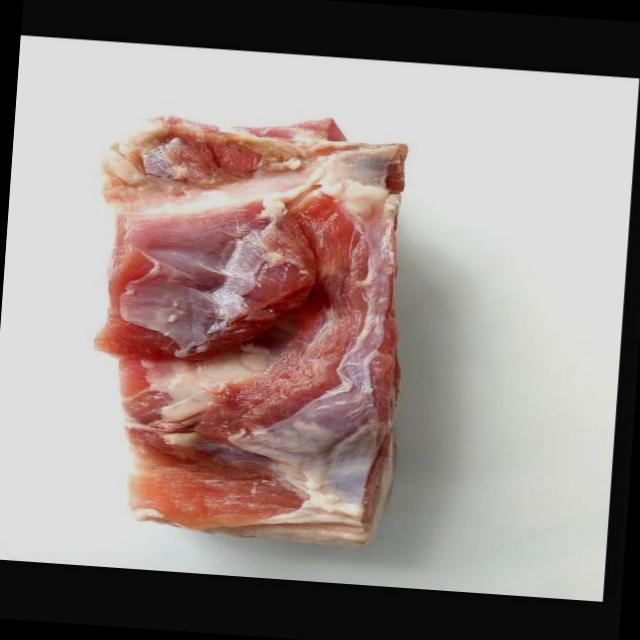pork: (62, 78, 418, 566)
